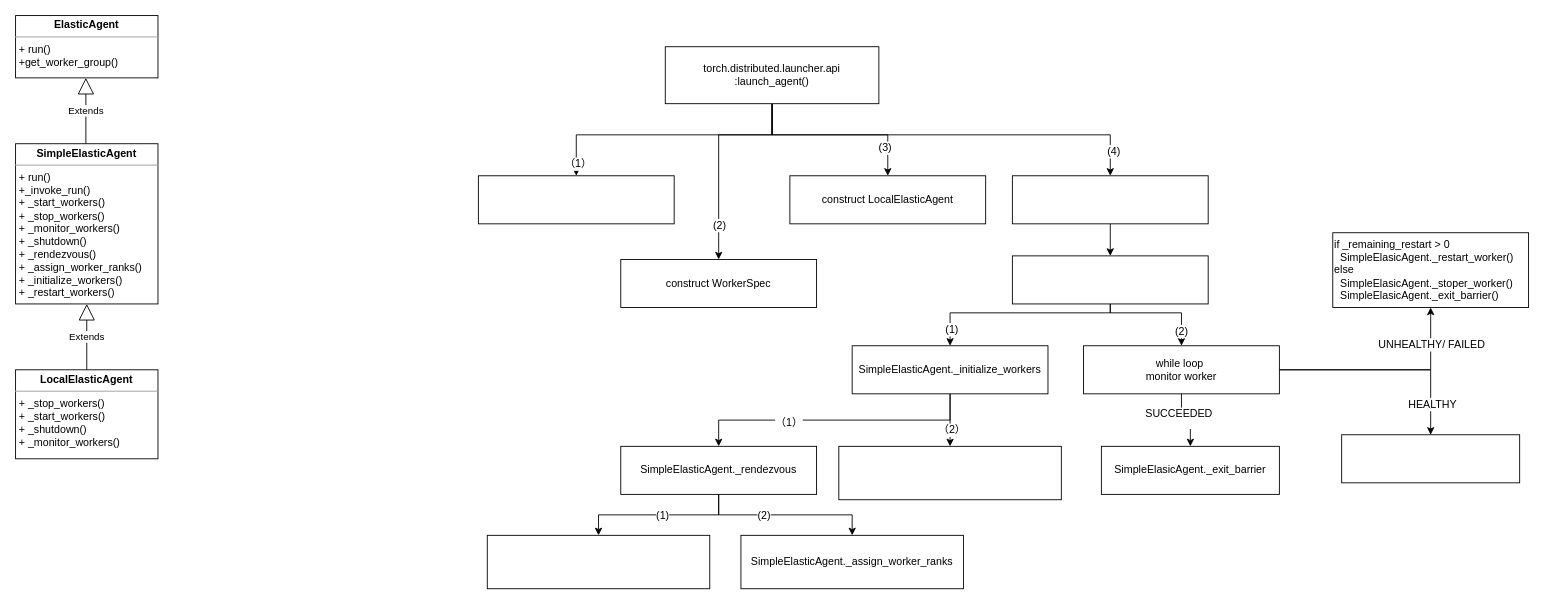
This 1544x604 diagram has some shape labels left out. Here are the shapes that lost their labels. From the top down, the centre of each, then its label:
point (575, 199): construct RendezvousParameters
point (1109, 199): SimpleElasticAgent.run
point (1109, 279): SimpleElasticAgent._invole_run
point (949, 472): local_elastic_agent._start_workers
point (1430, 458): if num_node_waiting > 0 SimpleElasicAgent._restart_worker
point (598, 561): rdzv_handler.next_rendezvous
